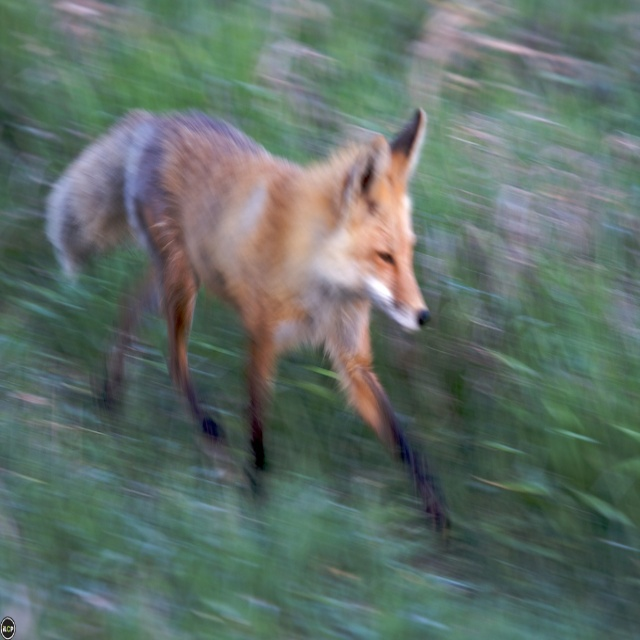Fox: (44, 108, 453, 545)
